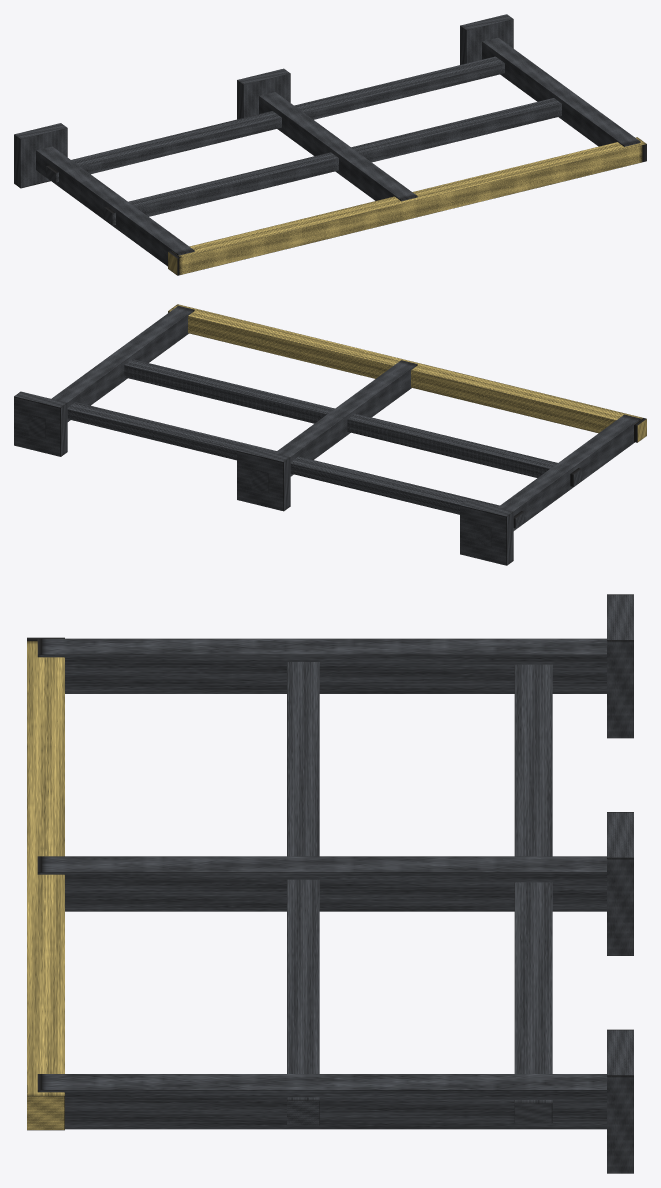
File: shared_guardrail.obj
3 renders of one model, top to bottom at view 1: azimuth 30°, elevation 25°; view 2: azimuth 150°, elevation 25°; view 3: azimuth 270°, elevation 25°, orthographic. The views are drawn at different scales.
Parts seen in each view (by area): view 1: shared_guardrail; view 2: shared_guardrail; view 3: shared_guardrail.
Boxes of the visible parts, x1=… form: shared_guardrail: x1=14, y1=14, x2=646, y2=275; shared_guardrail: x1=14, y1=304, x2=646, y2=565; shared_guardrail: x1=27, y1=594, x2=633, y2=1173.
Size of the model in its own units: 2.1 by 0.2 by 1.12.
Materials: 2 (2 with a texture image).
